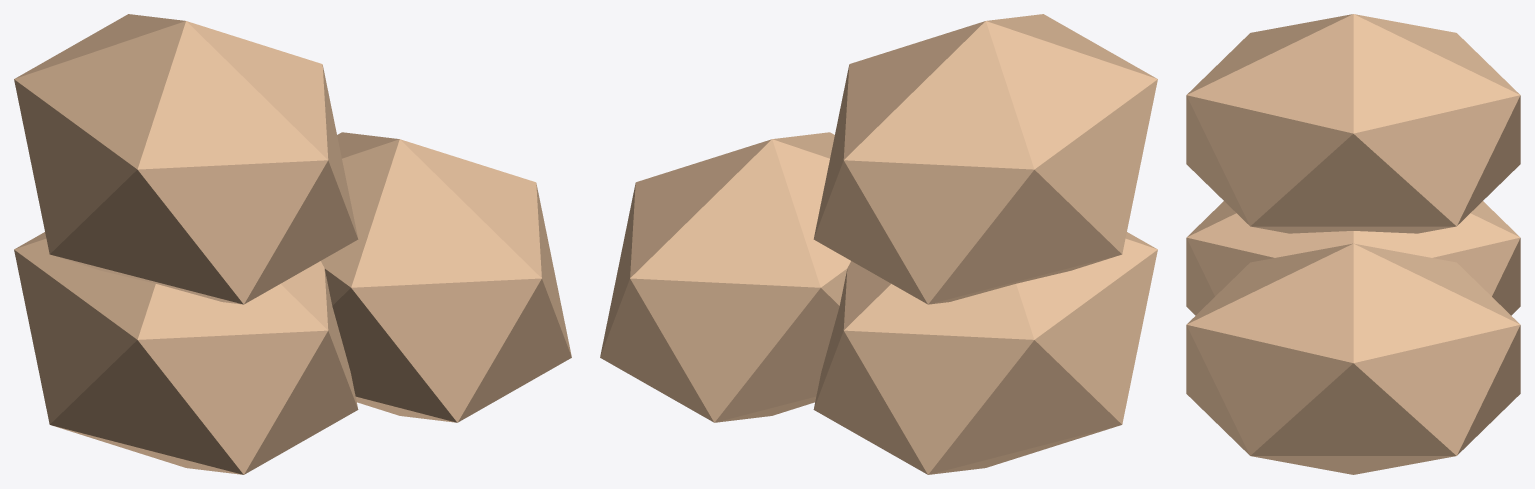
File: cargo_ore.fbx
3 views of the same model, side by side, from view 1: azimuth 30°, elevation 25°; view 2: azimuth 150°, elevation 25°; view 3: azimuth 270°, elevation 25° (orthographic). The views are drawn at different scales.
Visible parts, largest first — view 1: cargo_ore_mesh; view 2: cargo_ore_mesh; view 3: cargo_ore_mesh.
Boxes of the visible parts, box(x1,y1,x2,y2) form: cargo_ore_mesh: box(14, 14, 571, 474); cargo_ore_mesh: box(600, 14, 1157, 474); cargo_ore_mesh: box(1186, 14, 1520, 474).
Bounding box in the file's own units: 0.4783 × 0.42 × 0.3403.
